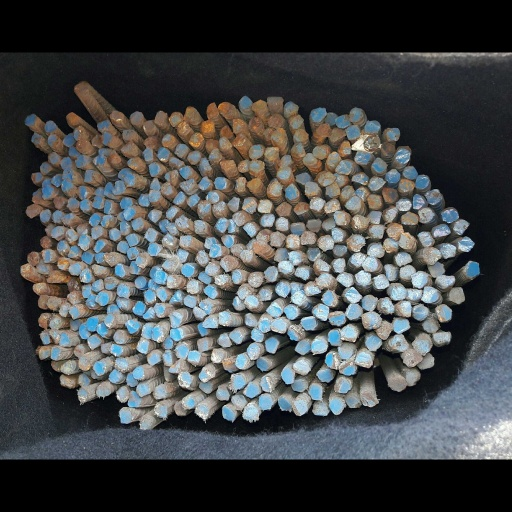dipstick: (411, 333, 432, 354), (361, 311, 382, 330), (347, 234, 365, 252), (386, 222, 404, 240), (337, 342, 355, 359), (410, 271, 428, 288), (389, 282, 406, 300), (404, 351, 422, 368), (417, 352, 434, 370), (423, 247, 440, 265), (427, 261, 445, 278), (287, 324, 304, 341), (316, 273, 333, 290), (376, 321, 392, 339), (317, 171, 336, 186), (391, 317, 410, 332), (388, 376, 407, 391), (334, 377, 351, 393), (340, 324, 356, 341), (355, 352, 372, 368), (383, 264, 399, 281), (361, 294, 377, 311), (391, 334, 408, 350), (403, 370, 420, 386), (435, 304, 451, 321), (423, 286, 439, 303), (292, 359, 310, 374), (360, 392, 378, 407), (326, 352, 341, 370), (304, 281, 322, 296), (424, 189, 442, 204), (243, 382, 259, 398), (219, 256, 235, 272), (312, 304, 328, 320), (366, 335, 382, 351), (346, 304, 362, 320), (285, 234, 301, 250), (382, 187, 398, 203), (399, 232, 415, 248), (345, 287, 361, 303), (377, 297, 393, 313), (395, 301, 411, 317), (412, 304, 428, 320), (423, 317, 439, 333), (449, 287, 465, 303), (329, 397, 344, 414), (339, 360, 356, 375), (328, 310, 345, 325), (337, 272, 354, 287), (367, 242, 384, 257), (345, 195, 360, 212), (325, 181, 340, 198), (340, 185, 355, 202), (399, 265, 416, 280), (436, 274, 455, 287), (270, 318, 286, 333), (213, 202, 228, 218), (232, 210, 248, 225), (311, 339, 327, 354), (322, 290, 337, 306), (333, 210, 349, 225), (367, 224, 383, 239), (311, 107, 327, 122), (367, 194, 383, 209), (382, 206, 397, 222), (434, 331, 450, 346), (441, 243, 456, 259), (178, 372, 192, 389), (281, 367, 295, 384), (275, 202, 292, 216), (312, 401, 329, 415), (309, 383, 323, 400), (352, 214, 369, 228), (355, 270, 372, 284), (329, 127, 346, 141), (441, 208, 458, 222), (400, 211, 418, 224), (394, 252, 412, 265), (432, 224, 451, 236), (114, 358, 129, 373), (243, 406, 258, 421), (231, 394, 246, 409), (292, 400, 307, 415), (248, 272, 263, 287), (288, 251, 303, 266), (318, 235, 333, 250), (369, 176, 384, 191), (453, 219, 468, 234), (198, 366, 212, 382), (230, 374, 244, 390), (265, 338, 279, 354), (179, 179, 195, 193), (268, 114, 284, 128), (267, 181, 281, 197), (285, 184, 299, 200), (294, 201, 310, 215), (270, 231, 284, 247), (277, 260, 293, 274), (328, 330, 342, 346), (362, 257, 378, 271), (336, 160, 352, 174), (354, 151, 370, 165), (414, 175, 430, 189), (373, 274, 389, 288), (406, 288, 422, 302), (465, 261, 479, 277), (418, 232, 434, 246), (316, 368, 333, 381), (345, 394, 362, 407), (169, 112, 183, 127), (118, 408, 132, 423), (217, 332, 231, 347), (236, 354, 250, 369), (260, 377, 274, 392), (258, 394, 272, 409), (242, 198, 256, 213), (215, 217, 229, 232), (295, 340, 310, 354), (267, 302, 282, 316), (276, 282, 290, 297), (295, 266, 310, 280), (332, 257, 346, 272), (349, 107, 363, 122), (381, 142, 395, 157), (372, 157, 386, 172), (385, 169, 400, 183), (418, 208, 433, 222), (459, 237, 474, 251), (117, 283, 130, 299), (59, 375, 75, 388), (169, 360, 185, 373), (292, 378, 308, 391), (247, 344, 260, 360), (195, 250, 208, 266), (314, 259, 330, 272), (338, 140, 351, 156), (398, 178, 414, 191), (170, 311, 182, 328), (351, 173, 368, 185), (162, 133, 176, 147), (95, 292, 109, 306), (108, 368, 122, 382), (125, 319, 139, 333), (139, 416, 153, 430), (166, 274, 180, 288), (164, 169, 178, 183), (195, 405, 209, 419), (221, 406, 235, 420), (251, 328, 265, 342), (244, 313, 258, 327), (244, 295, 258, 309), (192, 219, 206, 233), (184, 106, 198, 120), (289, 114, 303, 128), (271, 128, 285, 142), (243, 223, 257, 237), (307, 218, 321, 232), (331, 228, 345, 242), (310, 197, 324, 211), (346, 125, 360, 139), (396, 149, 410, 163), (78, 235, 91, 250), (32, 282, 47, 295), (136, 339, 149, 354), (128, 391, 141, 406), (218, 311, 231, 326), (256, 357, 271, 370), (249, 159, 264, 172), (278, 154, 293, 167), (295, 172, 310, 185), (284, 305, 297, 320), (301, 316, 316, 329), (301, 231, 316, 244), (325, 199, 340, 212), (350, 252, 365, 265), (365, 120, 380, 133), (327, 151, 340, 166), (396, 198, 411, 211), (383, 239, 398, 252), (117, 386, 129, 402), (265, 266, 277, 282), (74, 81, 88, 94), (129, 111, 143, 124), (39, 161, 52, 175), (25, 205, 39, 218), (144, 137, 158, 150), (112, 181, 126, 194), (122, 206, 135, 220), (65, 228, 78, 242), (57, 256, 70, 270), (147, 352, 161, 365), (153, 270, 166, 284), (175, 344, 188, 358), (216, 386, 229, 400), (170, 327, 184, 340), (181, 263, 194, 277), (198, 270, 212, 283), (203, 286, 217, 299), (198, 300, 212, 313), (229, 330, 242, 344), (279, 396, 292, 410), (258, 318, 271, 332), (232, 296, 245, 310), (197, 200, 210, 214), (187, 151, 201, 164), (189, 133, 203, 146), (206, 103, 219, 117), (249, 117, 263, 130), (231, 119, 244, 133), (205, 138, 218, 152), (248, 145, 262, 158), (215, 274, 229, 287), (290, 290, 304, 303), (275, 217, 288, 231), (306, 247, 320, 260), (305, 181, 318, 195), (368, 210, 381, 224), (303, 153, 317, 166), (313, 146, 327, 159), (336, 114, 350, 127), (316, 123, 330, 136), (403, 166, 417, 179), (127, 157, 142, 169), (37, 294, 49, 309), (79, 324, 91, 339), (86, 317, 98, 332), (136, 384, 151, 396), (152, 328, 164, 343), (163, 233, 175, 248), (193, 305, 205, 320), (200, 157, 212, 172), (264, 147, 279, 159), (276, 167, 291, 179), (253, 240, 268, 252), (290, 222, 305, 234), (412, 194, 424, 209), (162, 350, 173, 366), (187, 278, 198, 294), (332, 245, 348, 256), (154, 111, 167, 124), (148, 209, 161, 222), (68, 262, 81, 275), (67, 291, 80, 304), (87, 336, 100, 349), (104, 314, 117, 327), (113, 330, 126, 343), (132, 301, 145, 314), (163, 259, 176, 272), (147, 243, 160, 256), (162, 336, 175, 349), (179, 235, 192, 248), (176, 216, 189, 229), (186, 194, 199, 207), (179, 166, 192, 179), (175, 144, 188, 157), (201, 120, 214, 133), (209, 149, 222, 162), (219, 137, 232, 150), (292, 143, 305, 156), (258, 200, 271, 213), (220, 235, 233, 248), (205, 261, 218, 274), (322, 217, 335, 230), (325, 112, 338, 125), (109, 149, 121, 163), (157, 147, 169, 161), (51, 226, 65, 238), (109, 227, 121, 241), (132, 217, 144, 231), (103, 253, 117, 265), (27, 251, 39, 265), (136, 253, 148, 267), (20, 263, 32, 277), (104, 277, 118, 289), (38, 314, 50, 328), (79, 356, 91, 370), (96, 384, 110, 396), (126, 373, 138, 387), (155, 403, 167, 417), (141, 325, 153, 339), (154, 303, 166, 317), (188, 350, 200, 364), (170, 290, 182, 304), (198, 322, 210, 336), (211, 349, 223, 363), (218, 102, 232, 114), (219, 126, 233, 138), (247, 178, 261, 190), (230, 270, 242, 284), (386, 128, 400, 140), (77, 388, 88, 403), (203, 317, 218, 328), (252, 100, 267, 111), (228, 197, 239, 212), (63, 133, 75, 146), (74, 127, 86, 140), (75, 155, 88, 167), (41, 186, 54, 198), (51, 210, 63, 223), (61, 213, 74, 225), (61, 179, 74, 191), (100, 215, 113, 227), (40, 236, 53, 248), (93, 239, 105, 252), (119, 222, 131, 235), (125, 234, 138, 246), (81, 252, 93, 265), (79, 269, 91, 282), (46, 296, 58, 309), (134, 276, 146, 289), (86, 295, 98, 308), (40, 331, 52, 344), (38, 346, 50, 359), (77, 374, 90, 386), (93, 362, 105, 375), (132, 366, 144, 379), (153, 386, 166, 398), (145, 229, 157, 242), (173, 191, 185, 204), (174, 402, 186, 415), (183, 396, 195, 409), (199, 381, 212, 393), (223, 358, 235, 371), (176, 122, 189, 134), (239, 96, 252, 108), (285, 101, 298, 113), (233, 133, 245, 146), (203, 236, 216, 248), (261, 214, 274, 226), (142, 148, 153, 162), (92, 264, 106, 275), (68, 305, 79, 319), (143, 306, 154, 320), (144, 290, 155, 304), (197, 337, 208, 351), (220, 160, 234, 171), (294, 129, 308, 140), (234, 177, 245, 191), (109, 111, 124, 121), (44, 120, 56, 132), (67, 197, 79, 209), (84, 170, 96, 182), (148, 190, 160, 202), (68, 246, 80, 258), (127, 247, 139, 259), (41, 250, 53, 262), (74, 345, 86, 357), (110, 344, 122, 356), (166, 207, 178, 219), (184, 295, 196, 307), (266, 96, 282, 105), (214, 177, 226, 189), (209, 244, 221, 256), (240, 249, 252, 261), (48, 152, 59, 165), (61, 157, 72, 170), (51, 174, 62, 187), (75, 186, 86, 199), (124, 174, 135, 187), (93, 196, 104, 209), (138, 193, 149, 206), (149, 163, 160, 176), (89, 213, 100, 226), (76, 224, 89, 235), (117, 240, 128, 253), (68, 319, 81, 330), (97, 322, 108, 335), (107, 304, 120, 315), (156, 288, 167, 301), (170, 157, 183, 168), (238, 159, 249, 172), (115, 263, 125, 277), (51, 346, 61, 360), (60, 332, 70, 346), (150, 177, 160, 191), (24, 114, 36, 125), (66, 112, 77, 124), (47, 134, 58, 146), (31, 172, 43, 183), (40, 209, 51, 221), (101, 132, 112, 144), (123, 129, 135, 140), (91, 226, 102, 238), (91, 279, 103, 290), (48, 316, 59, 328), (159, 220, 170, 232), (161, 182, 172, 194), (198, 177, 209, 189), (97, 120, 110, 130), (129, 260, 139, 273), (58, 304, 68, 317), (82, 284, 91, 298), (79, 199, 90, 210), (57, 240, 68, 251), (120, 198, 132, 208), (31, 133, 42, 143), (93, 156, 105, 165), (101, 343, 111, 353), (143, 120, 154, 129), (104, 200, 112, 212)
